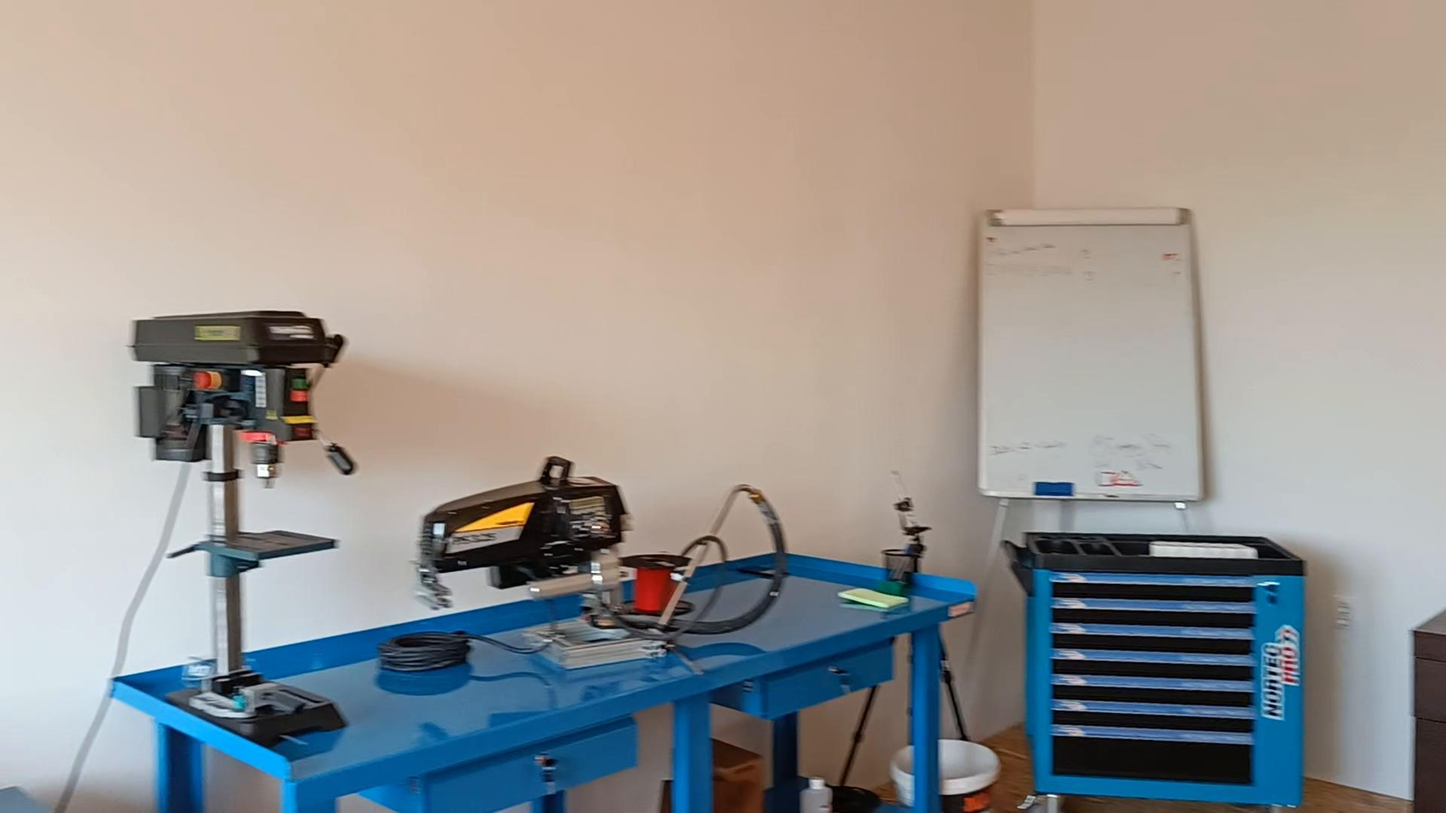wall: (0, 0, 1445, 796)
